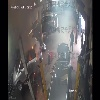fire: (29, 43, 39, 68)
